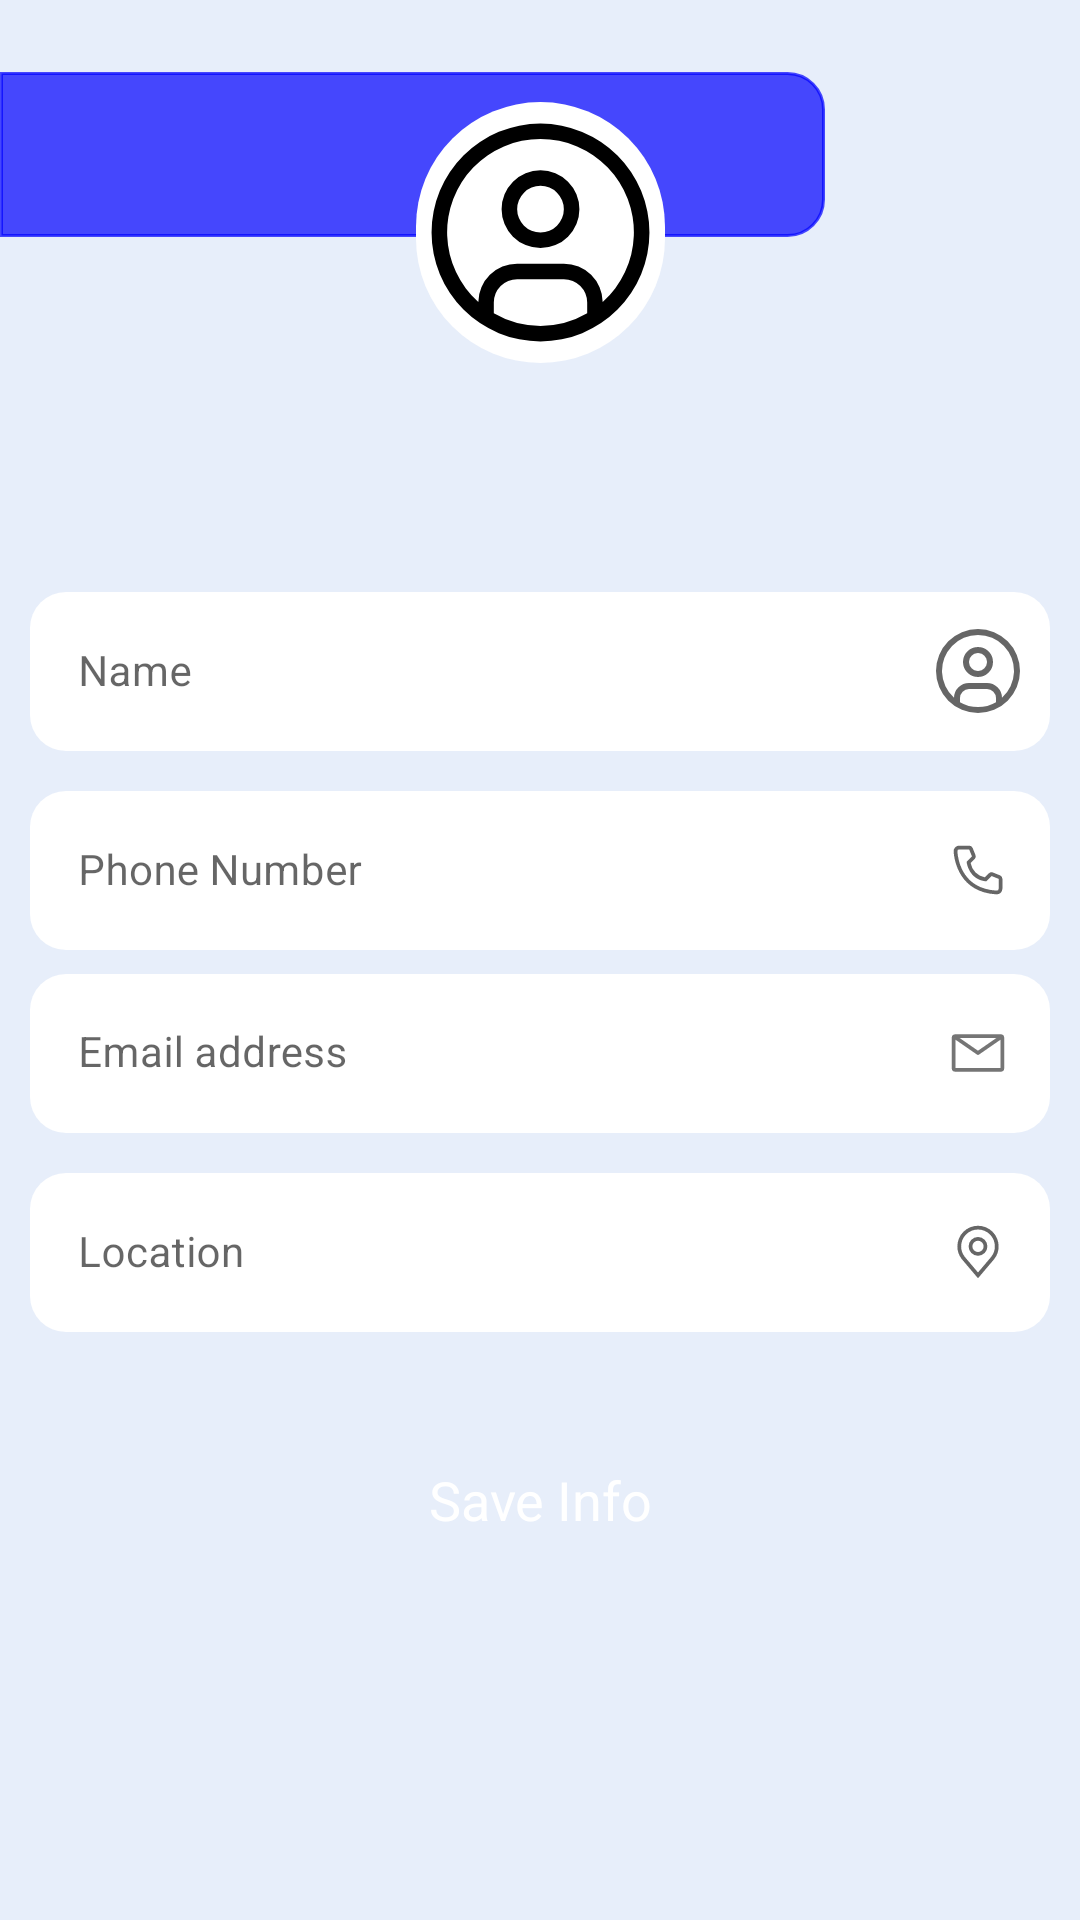

Where to tap for icons on this 1080*1920 app screen, as (x,y):
user: (540,232)
